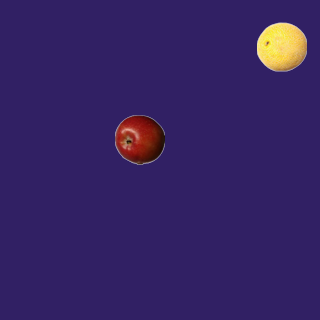Apple Braeburn: (114, 114, 164, 164)
Cantaloupe 1: (256, 21, 306, 71)
